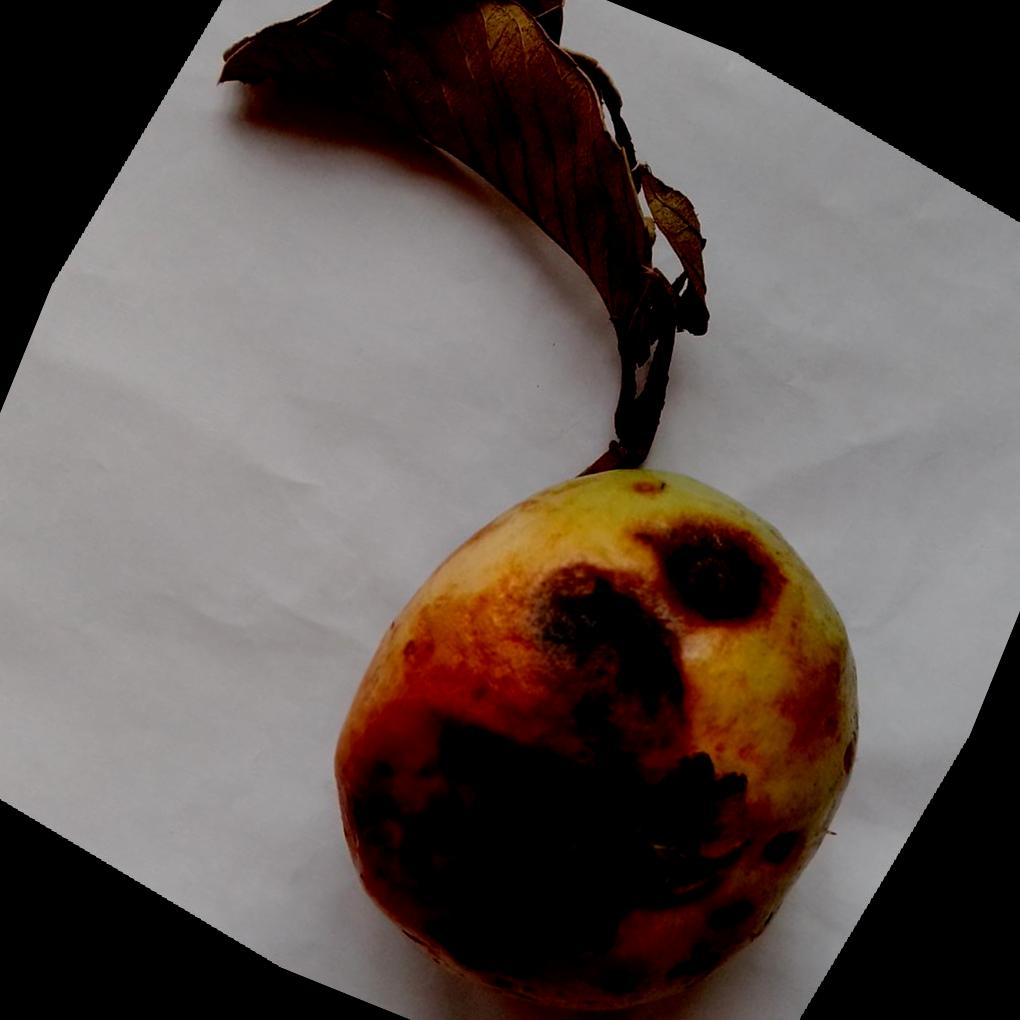FreshOrange: (334, 465, 862, 1013)
